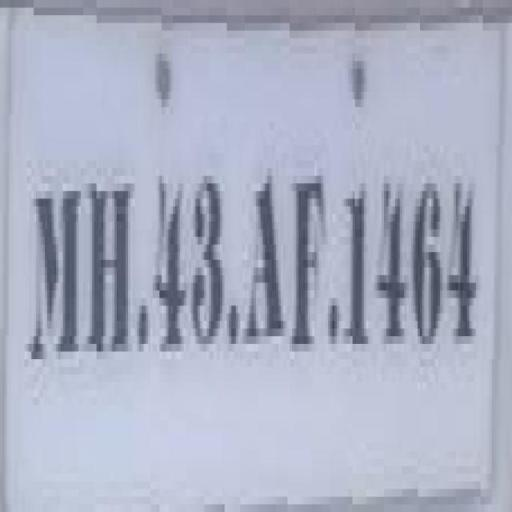number plate: (15, 15, 512, 474)
